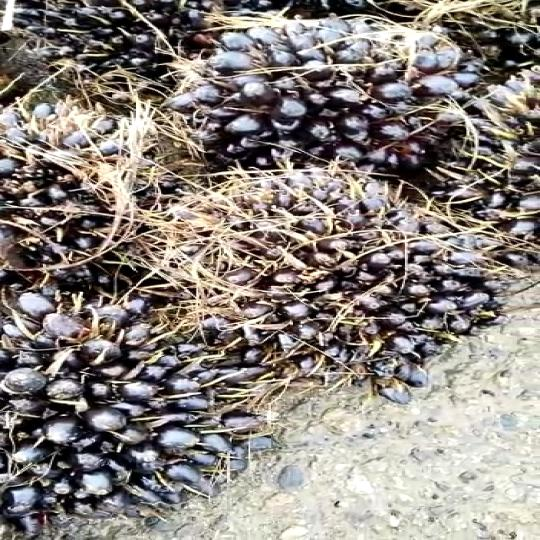mentah: (139, 164, 516, 395), (0, 280, 267, 540), (167, 14, 477, 192), (0, 85, 191, 302)
